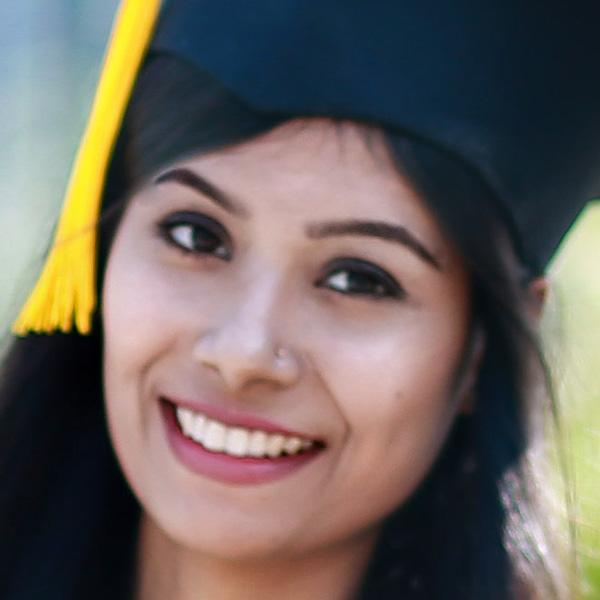Eyes: (304, 248, 416, 310), (153, 199, 241, 272)
